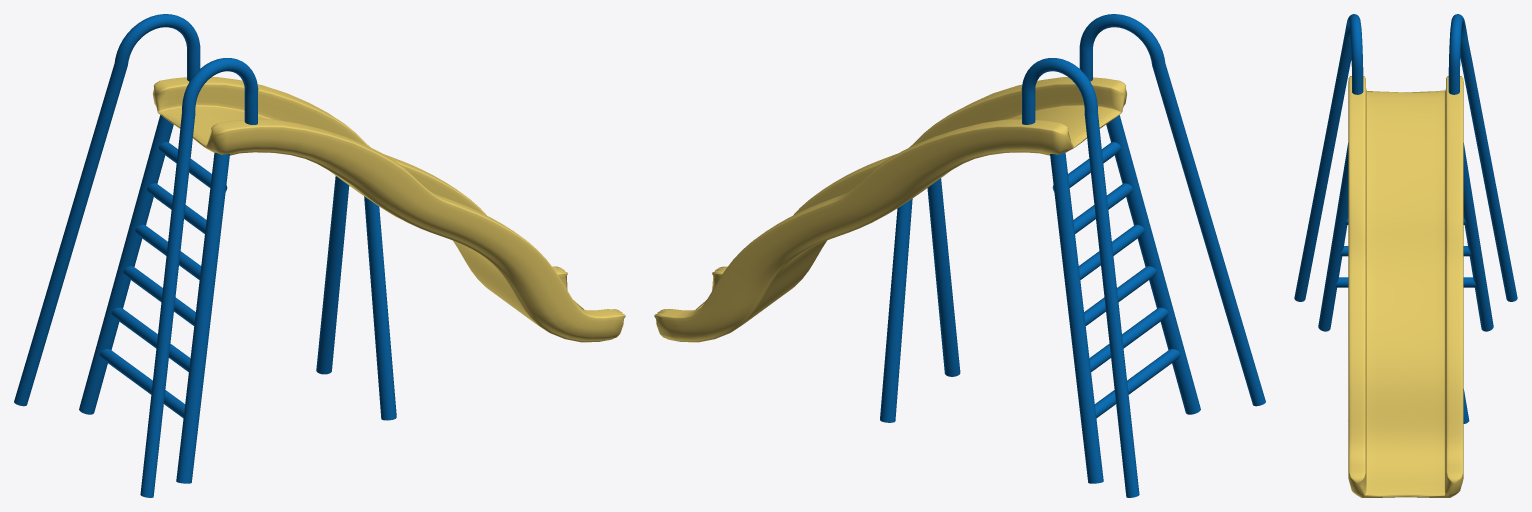
File: playgroundSlide.fbx
3 renders of one model, left to right at view 1: azimuth 30°, elevation 25°; view 2: azimuth 150°, elevation 25°; view 3: azimuth 270°, elevation 25°, orthographic. The views are drawn at different scales.
Visible parts, largest first — view 1: slideSteps, slide; view 2: slideSteps, slide; view 3: slide, slideSteps.
Part boxes in pixels (<box>): slideSteps: <box>14,14,396,497</box>; slide: <box>153,76,625,342</box>; slideSteps: <box>880,14,1265,497</box>; slide: <box>654,77,1126,342</box>; slide: <box>1348,76,1463,497</box>; slideSteps: <box>1294,14,1517,423</box>.
Bounding box in the file's own units: 1.75 × 1.29 × 0.7808.
